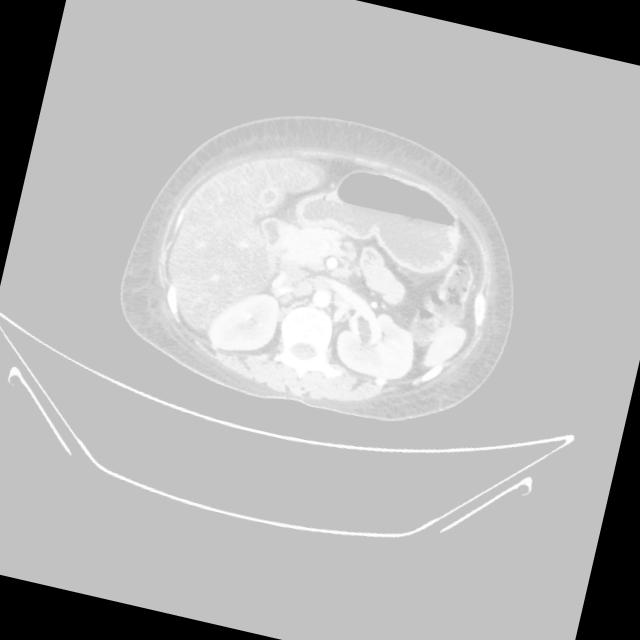NORMAL: (97, 85, 518, 440)
